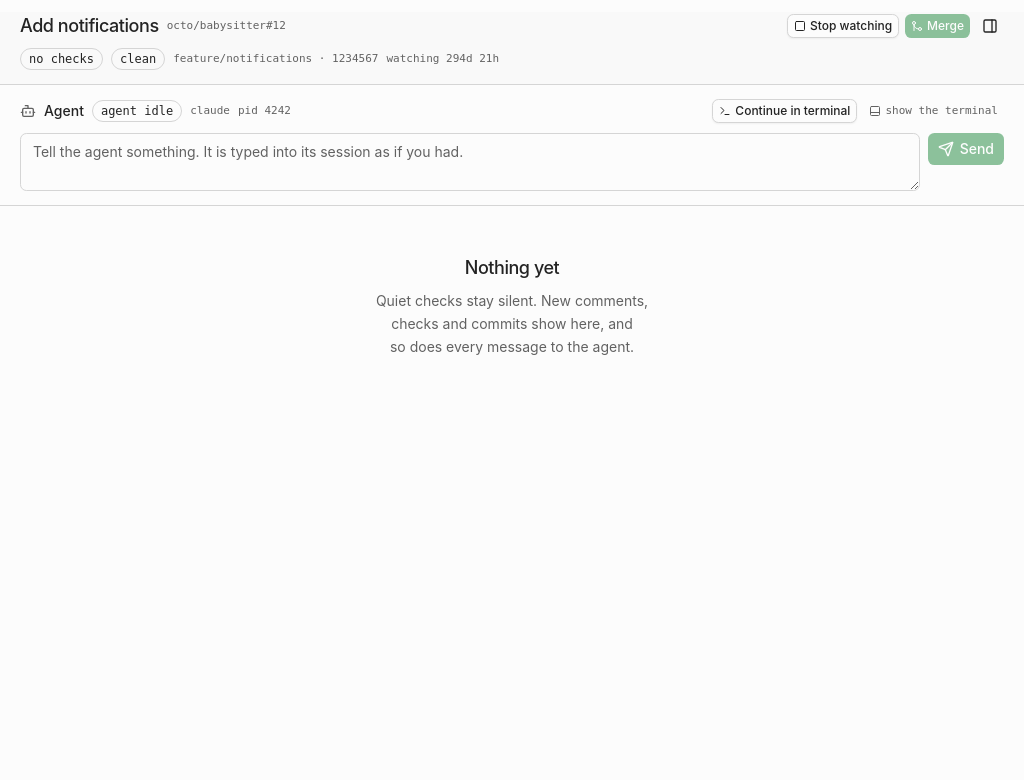
Scenario: an icon button after Merge opens the panel, and the same button in the same place closes it
Expected: the element "Watch settings" is not shown
Click the button named "Watch settings" at (990, 26), box top-left (976, 12), bottom-right (1004, 40)
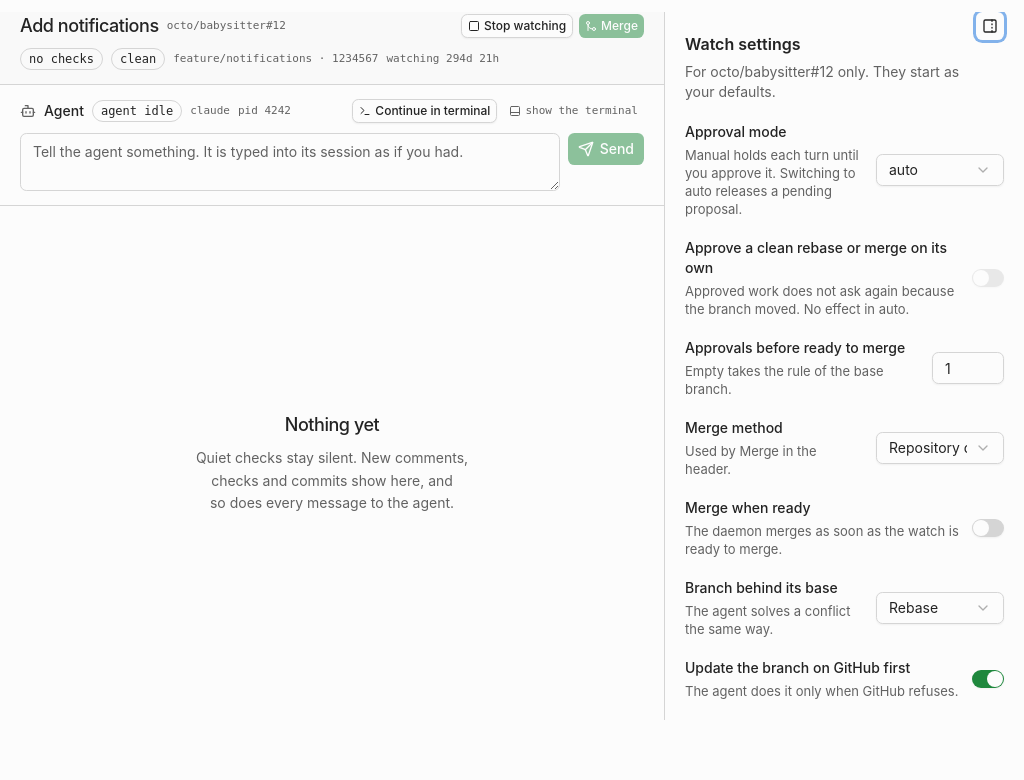
Expected: the heading "Add notifications" is shown, top-left (20, 12), bottom-right (159, 40)
Expected: the text "For octo/babysitter#12 only. They start as your defaults." is shown, top-left (685, 62), bottom-right (980, 102)
Click the button named "Watch settings" at (990, 26), box top-left (976, 12), bottom-right (1004, 40)
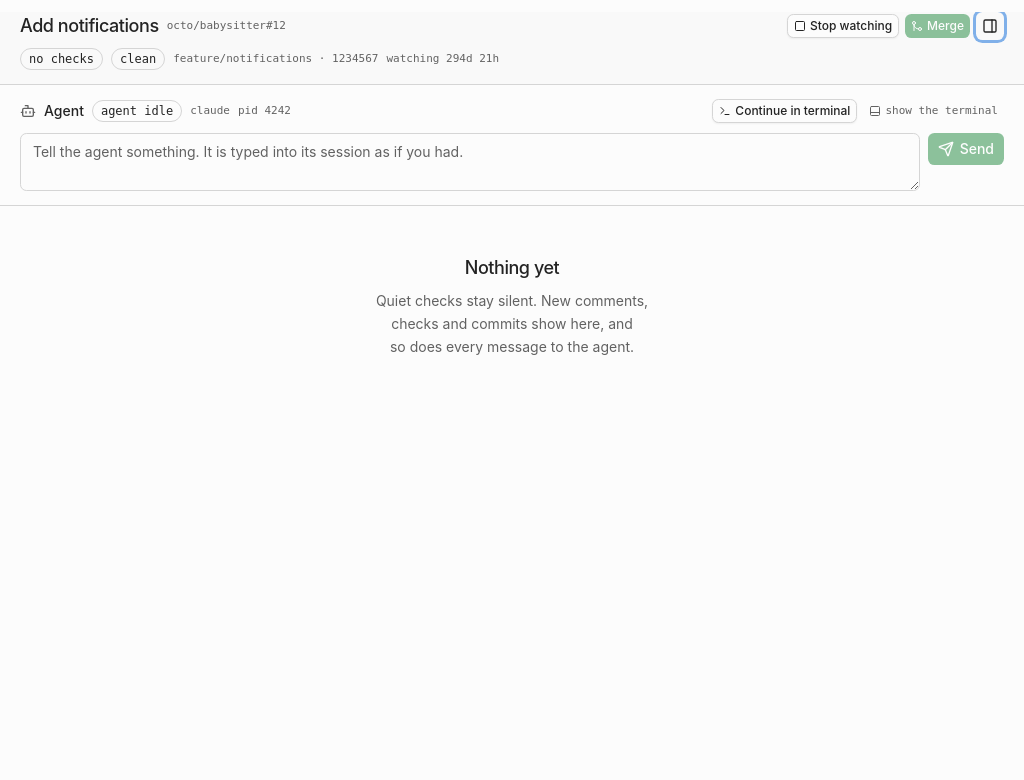
Expected: the heading "Watch settings" is gone
